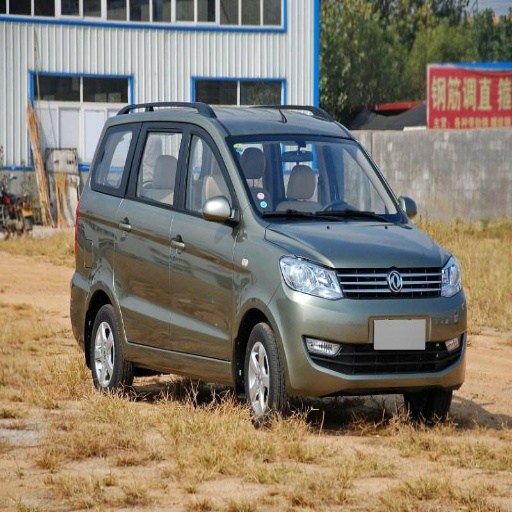front_bumper: (274, 265, 468, 394)
front_right_door: (168, 122, 240, 359)
front_right_light: (279, 253, 342, 298)
hood: (268, 219, 449, 271)
